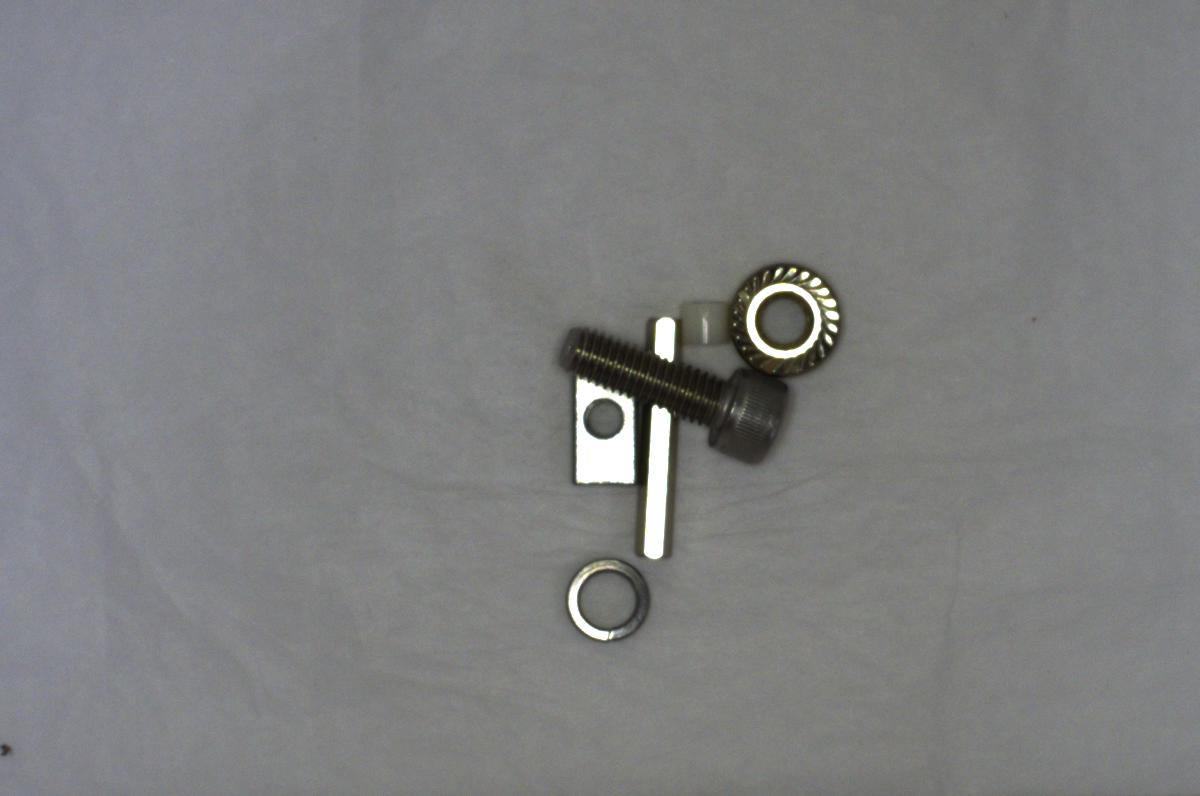Double hexagonal column: (630, 309, 684, 564)
Flange nut: (716, 253, 841, 389)
Hexagon screw: (561, 323, 791, 460)
Plastic cushion pillar: (670, 287, 738, 350)
Rectangular nut: (557, 354, 641, 490)
Spring washer: (562, 553, 652, 651)
